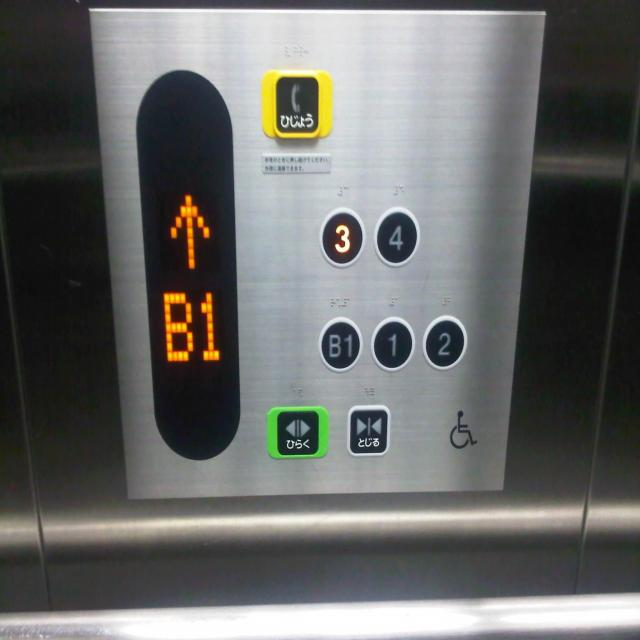1: (370, 316, 414, 372)
2: (422, 314, 468, 370)
3: (318, 206, 366, 269)
4: (371, 205, 420, 268)
B1: (317, 316, 364, 375)
CH: (444, 407, 481, 452)
call: (261, 70, 333, 142)
close: (347, 405, 390, 456)
led: (132, 65, 242, 464)
open: (265, 407, 329, 458)
